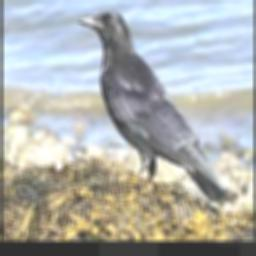Crow: (79, 9, 230, 203)
